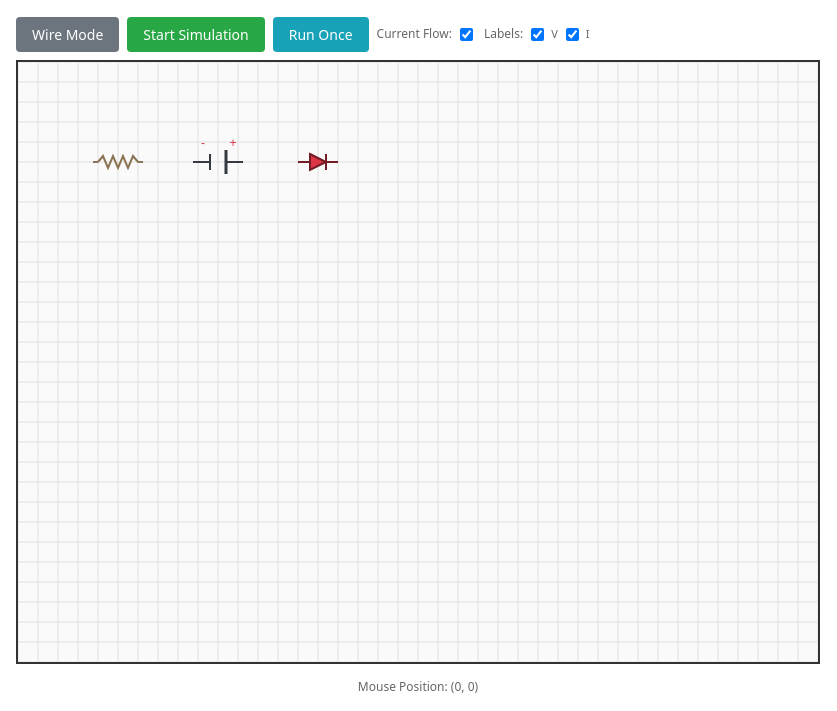
Test: CircuitBoard Wire Connection Integration › should handle terminal clicks in wire mode
The width and height of the screenshot is (837, 711).
Note: Enter wire mode
What coordinates should you click on to do the following:
click the button with test id "wire-mode-toggle"
I would click on:
 (68, 34)
Its box is [16,16,119,52].
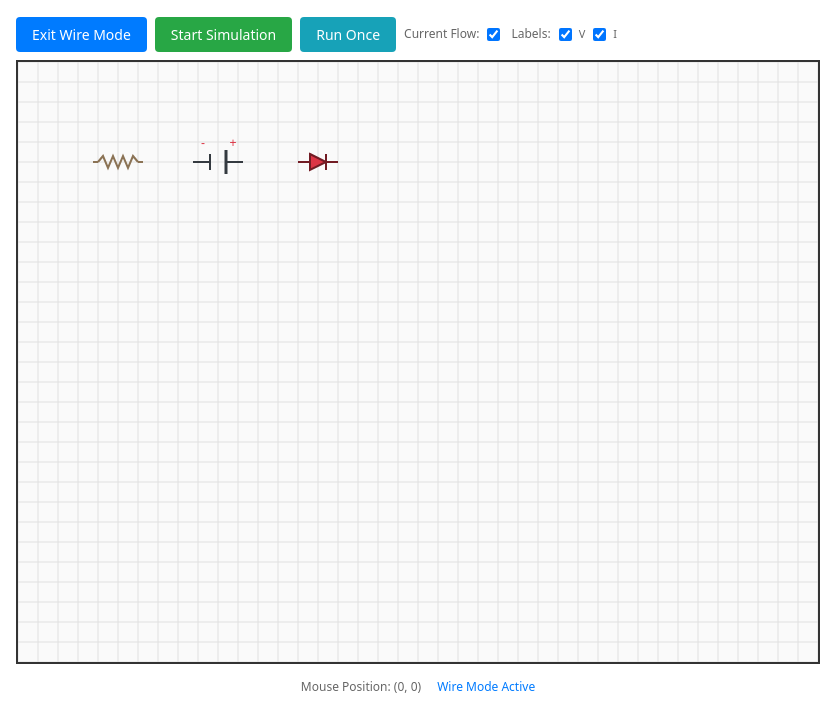
expect the button with test id "wire-mode-toggle" reads "Exit Wire Mode": met, box [16,16,147,52]
expect the text "Wire Mode Active" is shown: met, box [437,678,535,694]
